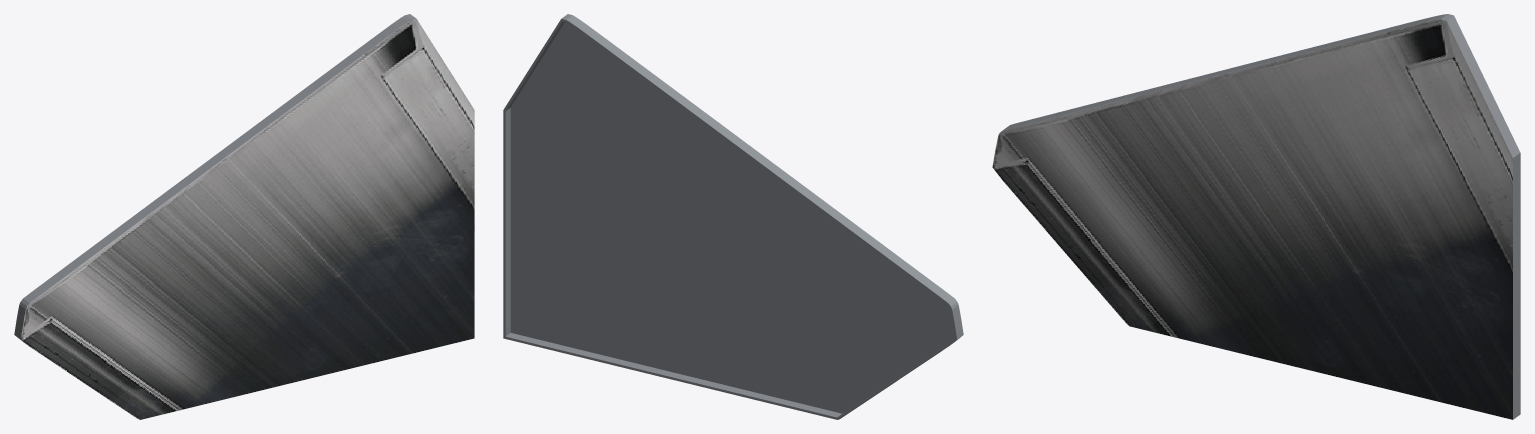
3 renders of one model, left to right at view 1: azimuth 30°, elevation 25°; view 2: azimuth 150°, elevation 25°; view 3: azimuth 330°, elevation 25°, orthographic. The views are drawn at different scales.
Parts seen in each view (by area): view 1: cat_ad9750862518992b; view 2: cat_ad9750862518992b; view 3: cat_ad9750862518992b.
Boxes of the visible parts, x1,y1,x2,y2 form: cat_ad9750862518992b: [14, 14, 474, 419]; cat_ad9750862518992b: [503, 14, 963, 419]; cat_ad9750862518992b: [992, 14, 1520, 419].
Bounding box in the file's own units: 0.6 × 0.015 × 0.4217.
2 materials, 1 textured.
